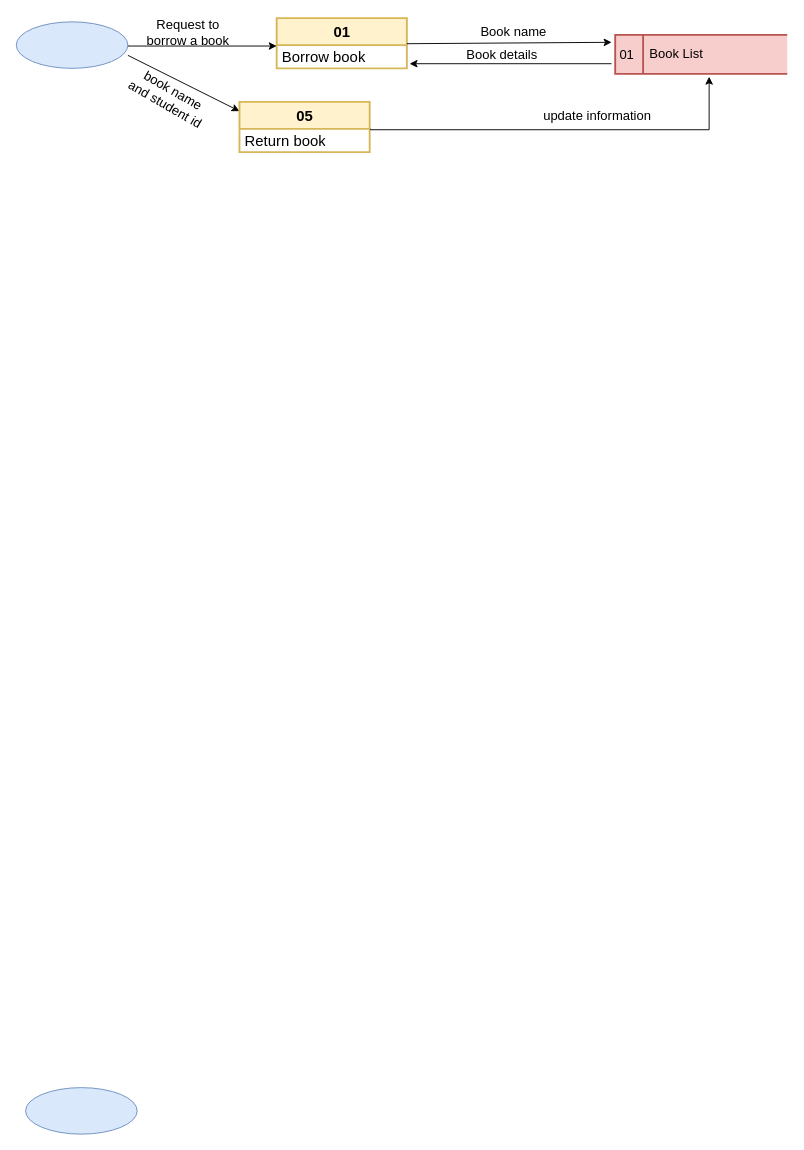
The diagram is 804 pixels wide and 1150 high, and some of its shapes have lost their labels. Each missing label, with the centre of its shape:
Stock manager: the point at 81,1110
Student: the point at 71,44
